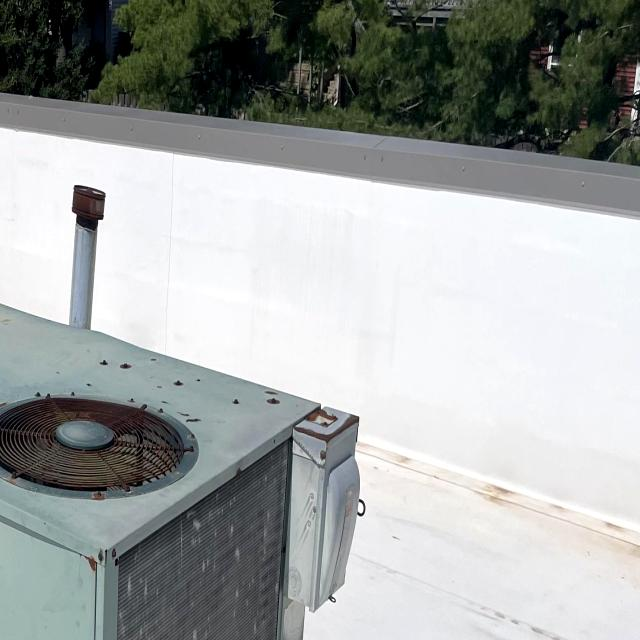RTU: (0, 252, 368, 640)
